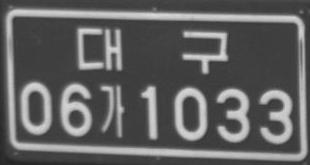0: (173, 86, 208, 141), (20, 80, 52, 135)
1: (136, 84, 167, 139)
3: (259, 87, 294, 144), (217, 88, 250, 142)
6: (59, 82, 92, 137)
가: (98, 85, 126, 137)
대구_D: (76, 27, 228, 74)
